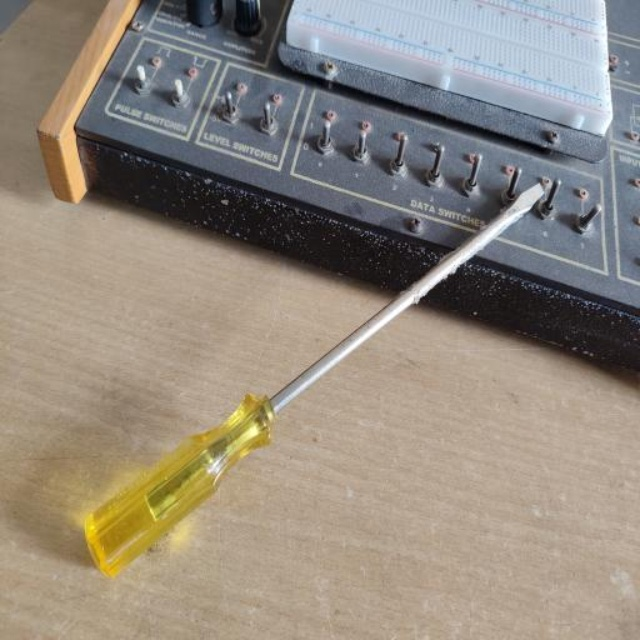screwdriver: (82, 178, 548, 582)
